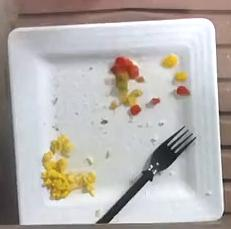rice: (41, 134, 95, 198)
vegetables: (110, 56, 143, 103)
